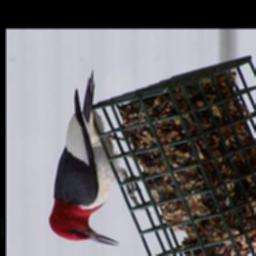Woodpecker: (47, 70, 139, 247)
